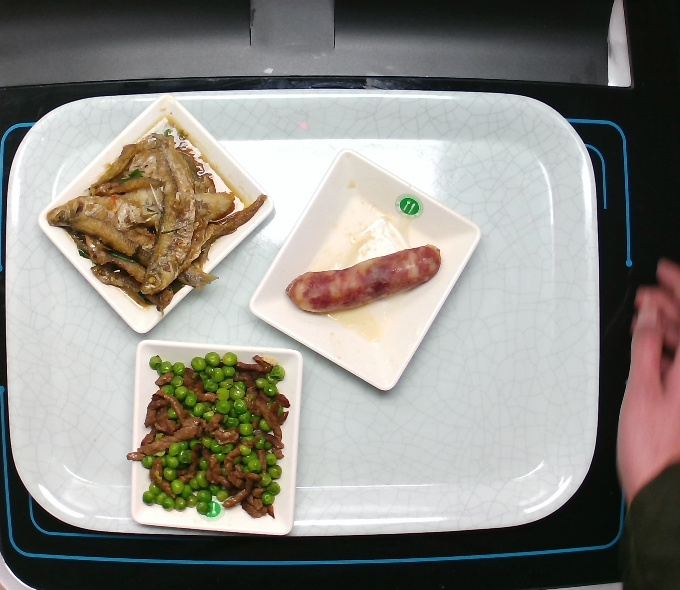wcq-CanDouNiuRou: (123, 349, 294, 524)
wcq-XiangChang: (280, 239, 443, 316)
wcq-XiaoJiYu: (41, 109, 271, 322)
